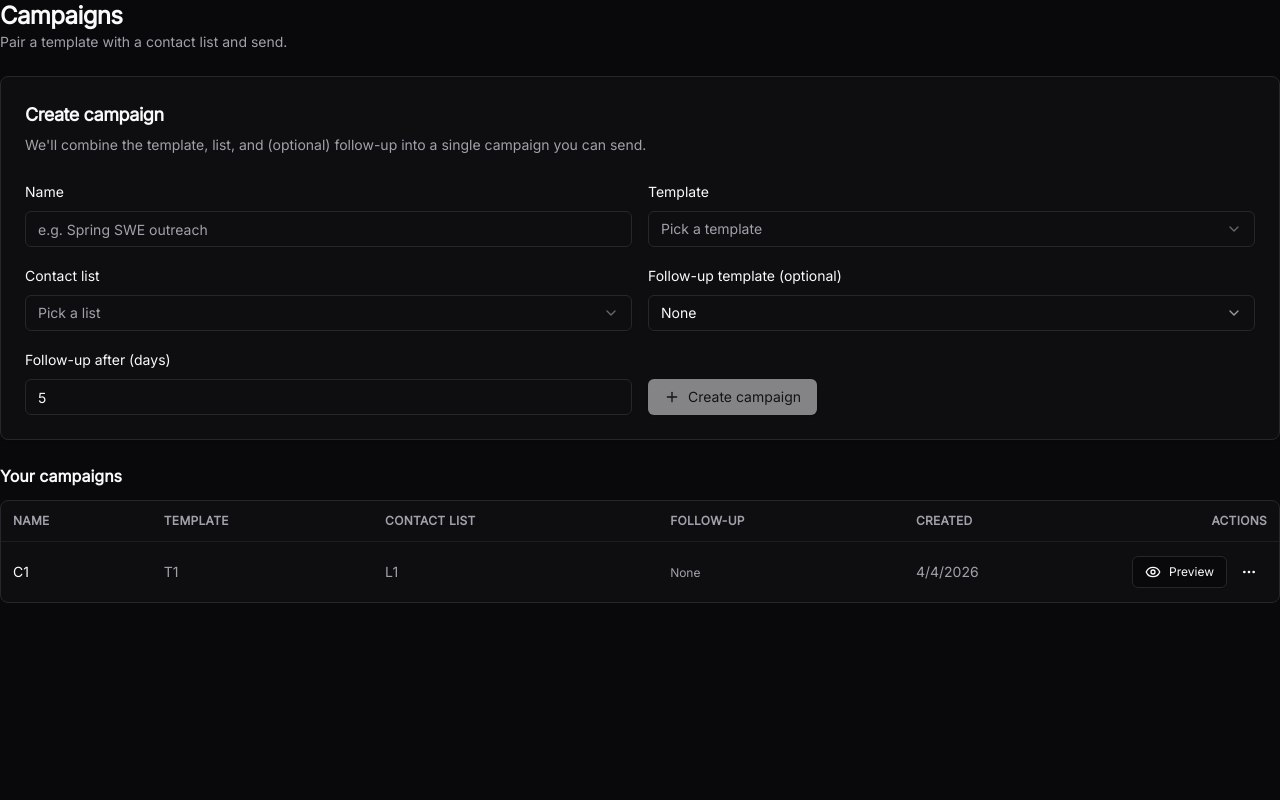
Test: CampaignsPage › polls send progress while sending from the preview dialog
Click the button "Preview".
click(1180, 572)  # box top-left (1132, 556), bottom-right (1227, 588)
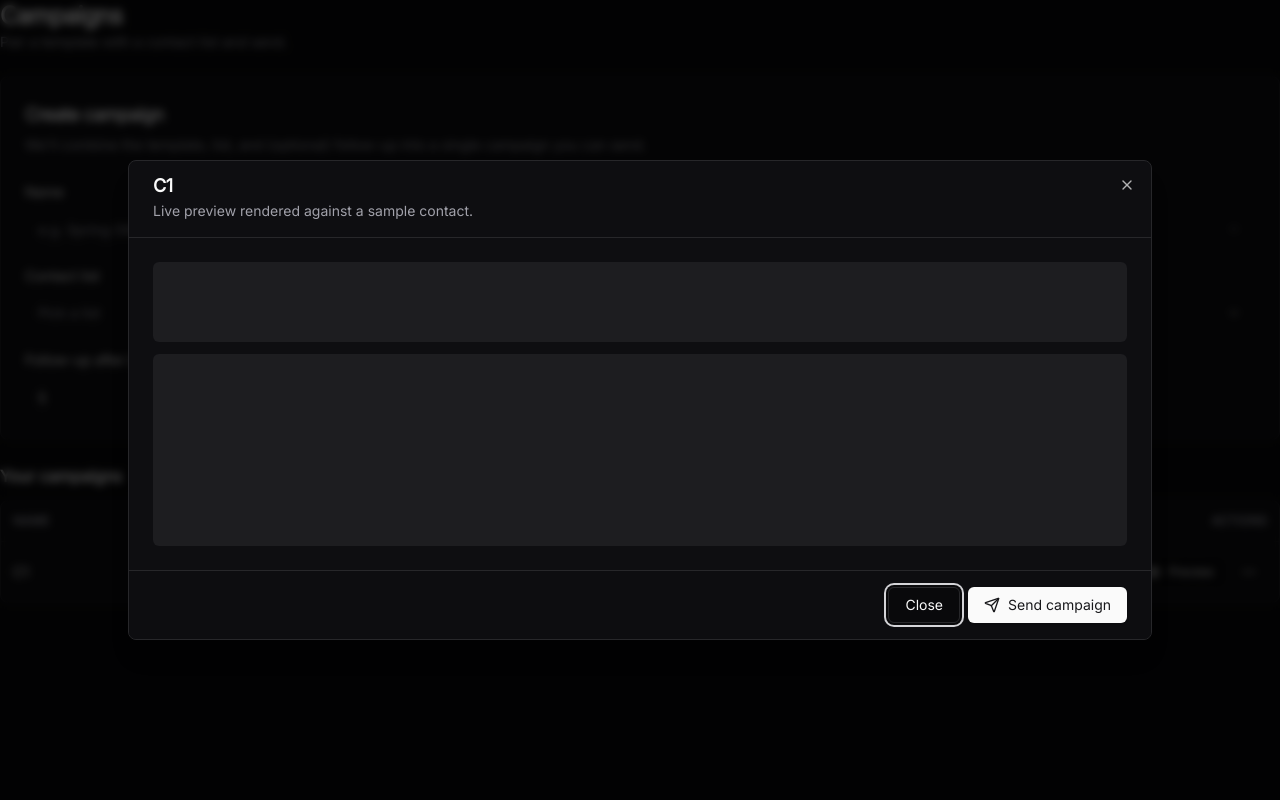
Click the button "Send campaign".
click(1048, 605)  # box top-left (968, 587), bottom-right (1127, 623)
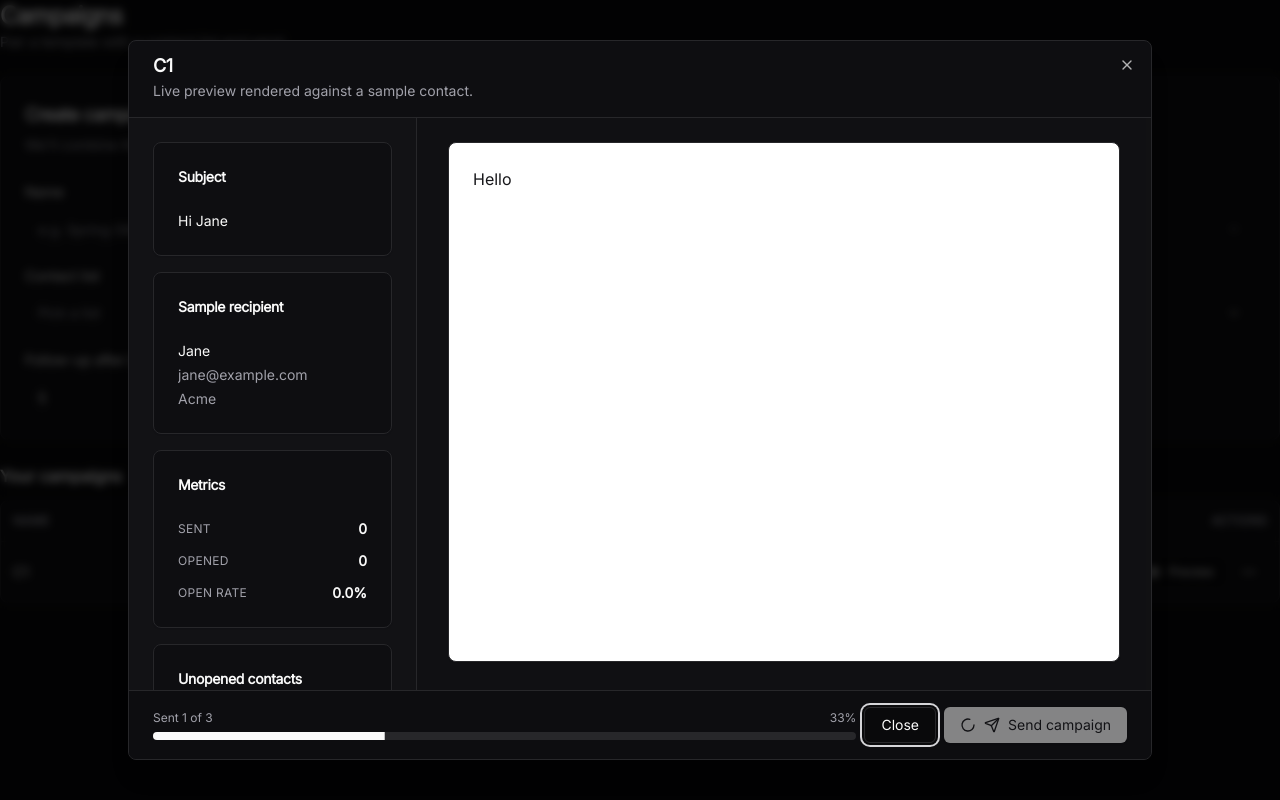
Now the text "Sent 1 of 3" is shown, box top-left (153, 710), bottom-right (213, 726)
